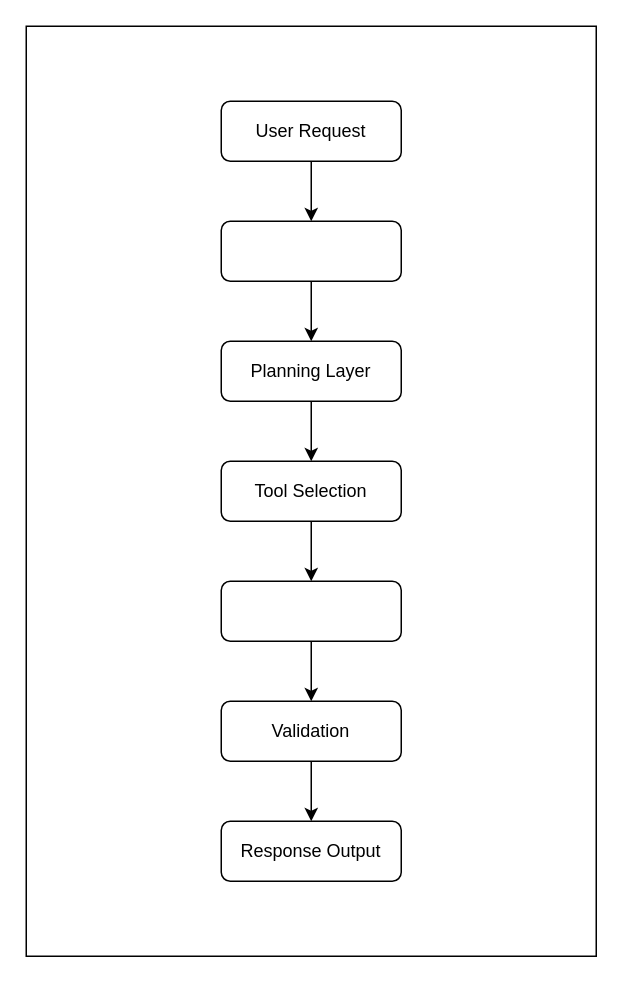
Some shapes in this 623 by 983 pixel diagram are drawn without their labels. Each missing label, with the box of its shape:
Context Layer: (220, 220, 401, 281)
Execution: (220, 580, 401, 641)
